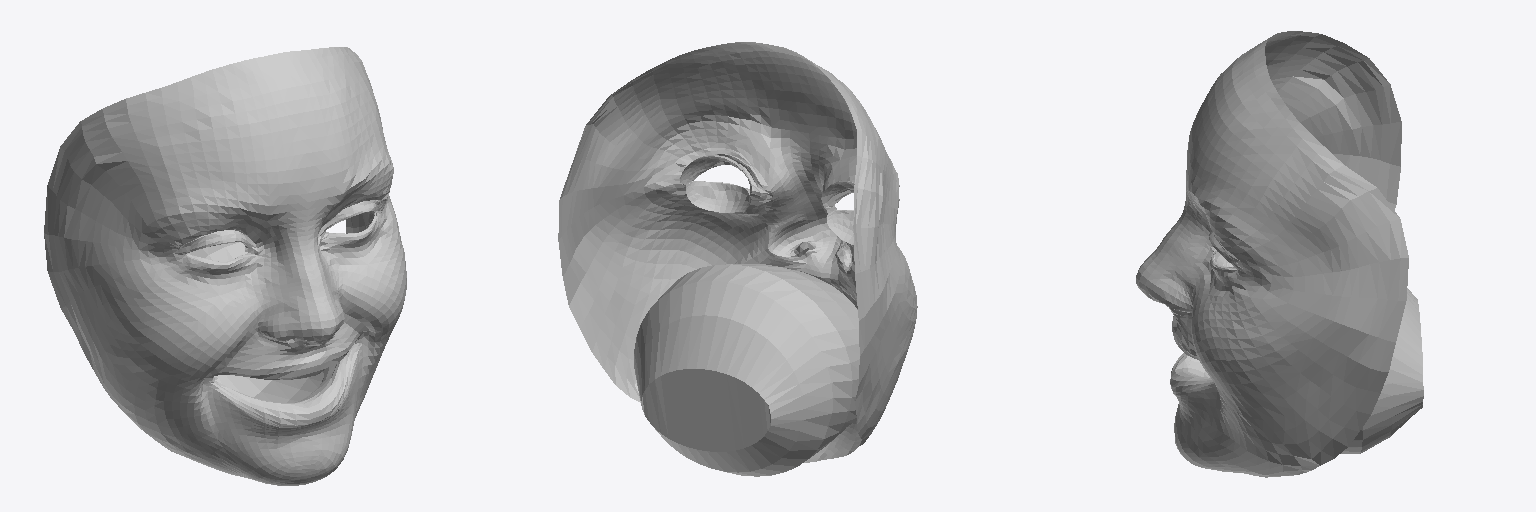
Rendered from mouth_PullOpen.obj.
3 views of the same model, side by side, from view 1: azimuth 30°, elevation 25°; view 2: azimuth 150°, elevation 25°; view 3: azimuth 270°, elevation 25° (orthographic).
Visible parts, largest first — view 1: face geoGroup Emily; view 2: face geoGroup Emily; view 3: face geoGroup Emily.
Boxes of the visible parts, x1=… form: face geoGroup Emily: x1=44, y1=47, x2=406, y2=485; face geoGroup Emily: x1=558, y1=42, x2=917, y2=476; face geoGroup Emily: x1=1136, y1=31, x2=1423, y2=477.
Size of the model in its own units: 14.28 by 18.38 by 11.69.